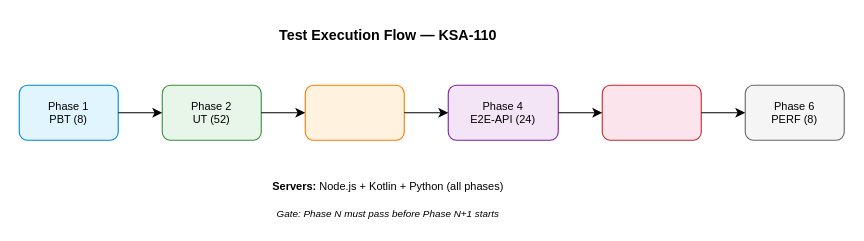
Image size: 864x241. Some labels were removed from this diagram. Each missing label, with the centre of its shape:
"Phase 3 IT (42)" belongs at [354,112].
"Phase 5 SIT (10)" belongs at [651,112].
